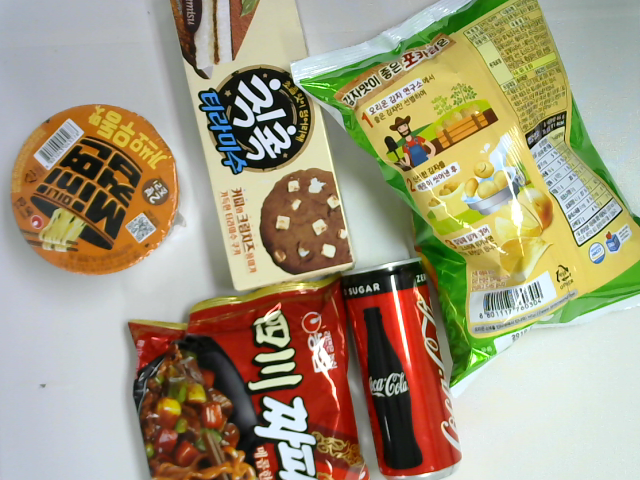Chicchok_Tiramisu: (166, 1, 355, 292)
Coca_Cola_Zero_Can_250ml: (341, 256, 463, 480)
Pocachip_Onion: (289, 1, 640, 392)
Sichuan_Chapaghetti: (131, 272, 372, 480)
Udongmini: (11, 102, 185, 277)
